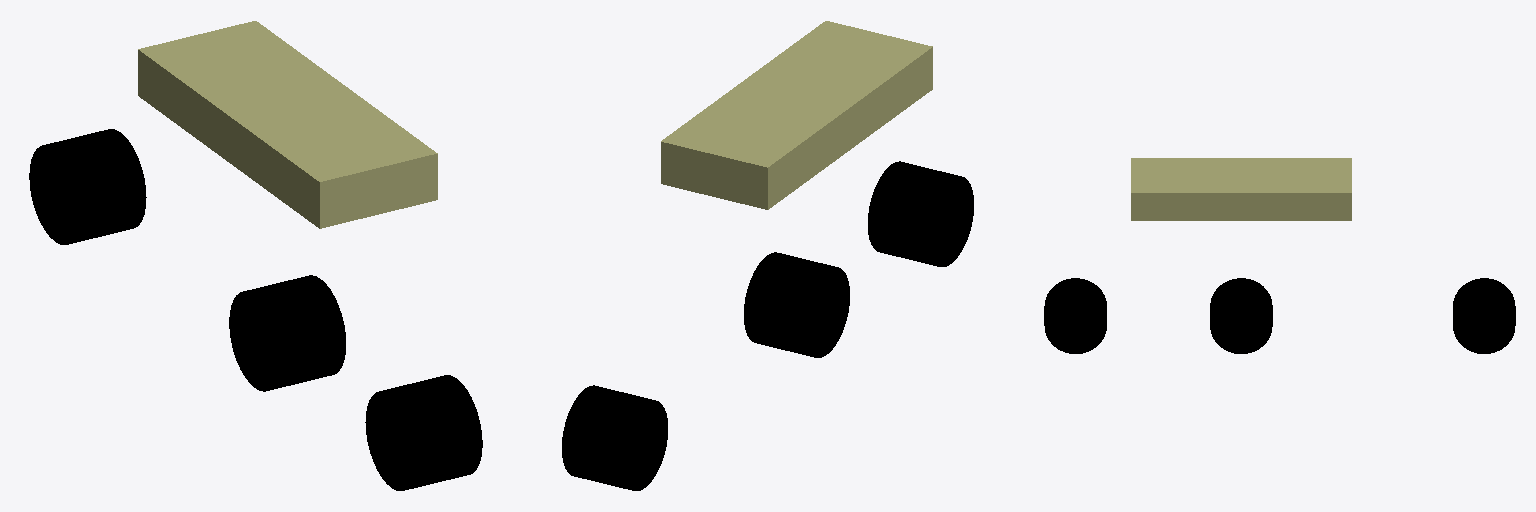
The robot description file, URDF, robot "aar2":
<robot name="aar2">
  <link name="base_link">
    <visual>
      <geometry>
        <box size= "0.45 1.2 0.17"/>
      </geometry>
      <origin xyz="0 0 0"/>
      <material name="Yellow">
        <color rgba="0.7 0.7 0.5 0.75"/>
      </material>
    </visual>
  </link>

  <link name="front_rightw">
    <visual>
      <geometry>
        <cylinder length="0.13" radius="0.17"/>
      </geometry>
      <origin xyz="0.41 0.66 -0.35"/>
      <material name="Black">
        <color rgba="0 0 0 1.0"/>
      </material>
    </visual>
  </link>

  <link name="front_leftw">
   <visual>
      <geometry>
        <cylinder length="0.13" radius="0.17"/>
      </geometry>
      <origin xyz="-0.41 0.66 -0.35"/>
      <material name="Black">
        <color rgba="0 0 0 1.0"/>
      </material>
    </visual>
  </link>

  <link name="mid_rightw">
   <visual>
      <geometry>
        <cylinder length="0.13" radius="0.17"/>
      </geometry>
      <origin xyz="0.41 0 -0.35"/>
      <material name="Black">
        <color rgba="0 0 0 1.0"/>
      </material>
    </visual>
  </link>

  <link name="mid_leftw">
   <visual>
      <geometry>
        <cylinder length="0.13" radius="0.17"/>
      </geometry>
      <origin xyz="-0.41 0 -0.35"/>
      <material name="Black">
        <color rgba="0 0 0 1.0"/>
      </material>
    </visual>
  </link>

  <link name="rear_rightw">
  <visual>
      <geometry>
        <cylinder length="0.13" radius="0.17"/>
      </geometry>
      <origin xyz="0.41 -0.45 -0.35"/>
      <material name="Black">
        <color rgba="0 0 0 1.0"/>
      </material>
    </visual>
  </link>

  <link name="rear_leftw">
   <visual>
      <geometry>
        <cylinder length="0.13" radius="0.17"/>
      </geometry>
      <origin xyz="-0.41 -0.45 -0.35"/>
      <material name="Black">
        <color rgba="0 0 0 1.0"/>
      </material>
    </visual>
  </link>

  <joint name="base_front_right" type="continuous">
    <parent link="base_link"/>
    <child link="front_rightw"/>
    <origin xyz="0.41 0.66 -0.35" rpy="0 1.57 0" />
    <axis xyz="0 0 -1" />
  </joint>

  <joint name="base_front_left" type="continuous">
    <parent link="base_link"/>
    <child link="front_leftw"/>
    <origin xyz="-0.41 0.66 -0.35" rpy="0 -1.57 0" />
    <axis xyz="0 0 1" />
  </joint>

  <joint name="base_mid_right" type="continuous">
    <parent link="base_link"/>
    <child link="mid_rightw"/>
    <origin xyz="0.41 0 -0.35" rpy="0 1.57 0" />
    <axis xyz="0 0 -1" />
  </joint>

   <joint name="base_mid_left" type="continuous">
    <parent link="base_link"/>
    <child link="mid_leftw"/>
    <origin xyz="-0.41 0 -0.35" rpy="0 -1.57 0" />
    <axis xyz="0 0 1" />
  </joint>

  <joint name="base_rear_right" type="continuous">
    <parent link="base_link"/>
    <child link="rear_rightw"/>
    <origin xyz="0.41 -0.45 -0.35" rpy="0 1.57 0" />
    <axis xyz="0 0 -1" />
  </joint>

  <joint name="base_rear_left" type="continuous">
    <parent link="base_link"/>
    <child link="rear_leftw"/>
    <origin xyz="-0.41 -0.45 -0.35" rpy="0 -1.57 0" />
    <axis xyz="0 0 1" />
  </joint>

</robot>

--- Render facts (derived) ---
3 views of the same robot in one strip: view 1: azimuth 30°, elevation 25°; view 2: azimuth 150°, elevation 25°; view 3: azimuth 270°, elevation 25° (orthographic).
Robot: aar2 — 7 links, 6 joints (6 continuous); root link base_link; default pose: every joint at zero.
Links seen in each view (by area): view 1: base_link, mid_leftw, front_leftw, rear_leftw, front_rightw, rear_rightw, mid_rightw; view 2: base_link, rear_leftw, front_leftw, mid_leftw, mid_rightw, rear_rightw, front_rightw; view 3: base_link, mid_rightw, front_rightw, rear_rightw, front_leftw, rear_leftw, mid_leftw.
Link boxes in pixels (box(x1,y1,x2,y2)): base_link: box(138, 21, 437, 228); mid_leftw: box(229, 283, 314, 391); front_leftw: box(29, 137, 114, 244); rear_leftw: box(365, 383, 450, 490); front_rightw: box(79, 129, 146, 236); rear_rightw: box(416, 375, 482, 481); mid_rightw: box(280, 275, 345, 381); base_link: box(661, 21, 932, 209); rear_leftw: box(896, 169, 973, 266); front_leftw: box(590, 393, 667, 490); mid_leftw: box(772, 260, 849, 357); mid_rightw: box(744, 252, 805, 349); rear_rightw: box(868, 161, 928, 258); front_rightw: box(562, 385, 623, 482); base_link: box(1131, 158, 1351, 220); mid_rightw: box(1210, 288, 1272, 353); front_rightw: box(1453, 288, 1515, 353); rear_rightw: box(1044, 288, 1106, 353); front_leftw: box(1453, 278, 1515, 315); rear_leftw: box(1044, 278, 1106, 315); mid_leftw: box(1210, 278, 1272, 314).
Size in the robot's own frame: 0.45 by 2.56 by 1.02 metres.
Geometry: primitives only (box / cylinder / sphere), no mesh files.
